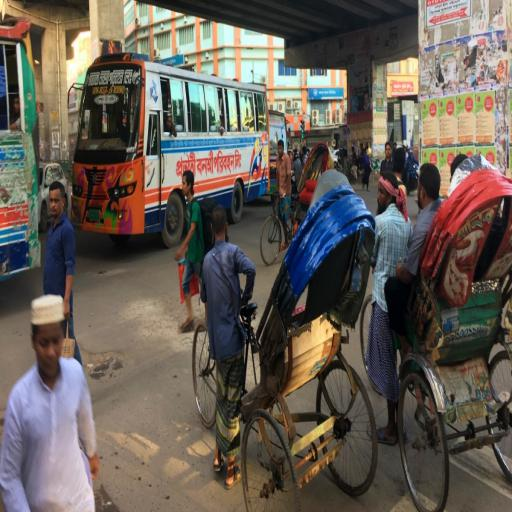bus: (70, 50, 272, 252), (1, 17, 46, 295), (266, 105, 293, 204)
car: (36, 160, 72, 232)
motorbike: (401, 145, 422, 197)
rickshaw: (188, 164, 385, 512), (360, 141, 512, 512), (258, 137, 340, 269)
